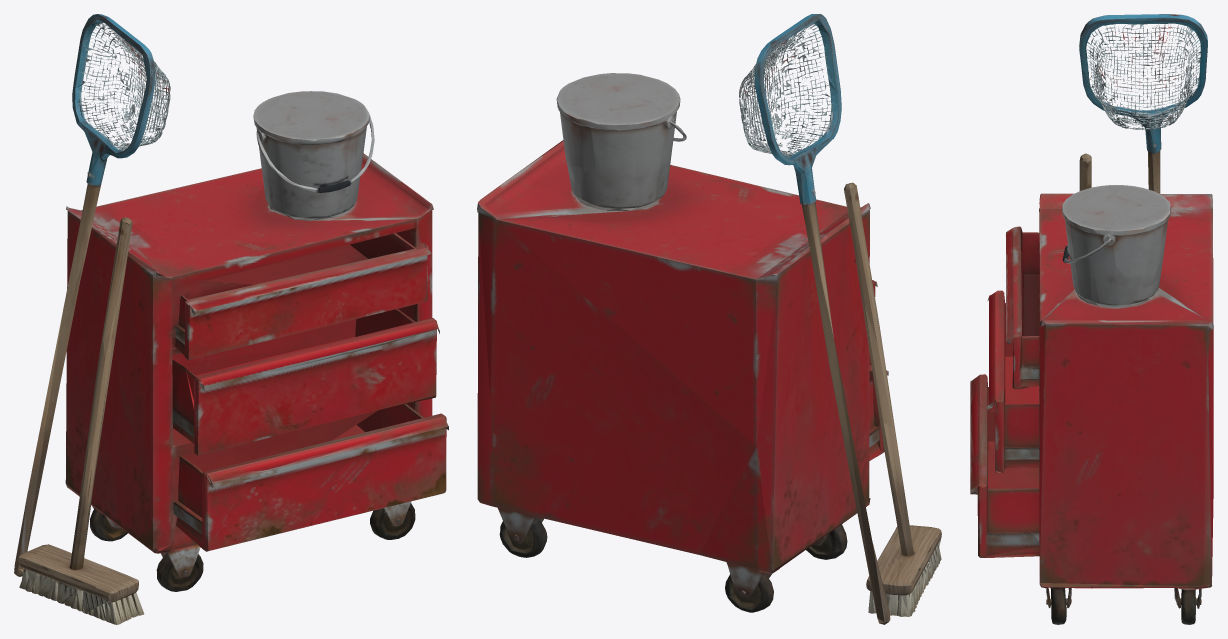
The model's file is carrello_attrezzi.glb.
3 views of the same model, side by side, from view 1: azimuth 30°, elevation 25°; view 2: azimuth 150°, elevation 25°; view 3: azimuth 270°, elevation 25° (orthographic). The views are drawn at different scales.
Parts seen in each view (by area): view 1: Mesh_0; view 2: Mesh_0; view 3: Mesh_0.
Part boxes in pixels (x1,y1,x2,y2): Mesh_0: (14,14,448,624); Mesh_0: (477,14,941,624); Mesh_0: (970,14,1213,624).
Size of the model in its own units: 1.38 by 1.9 by 0.8351.
1 material, 1 textured.
